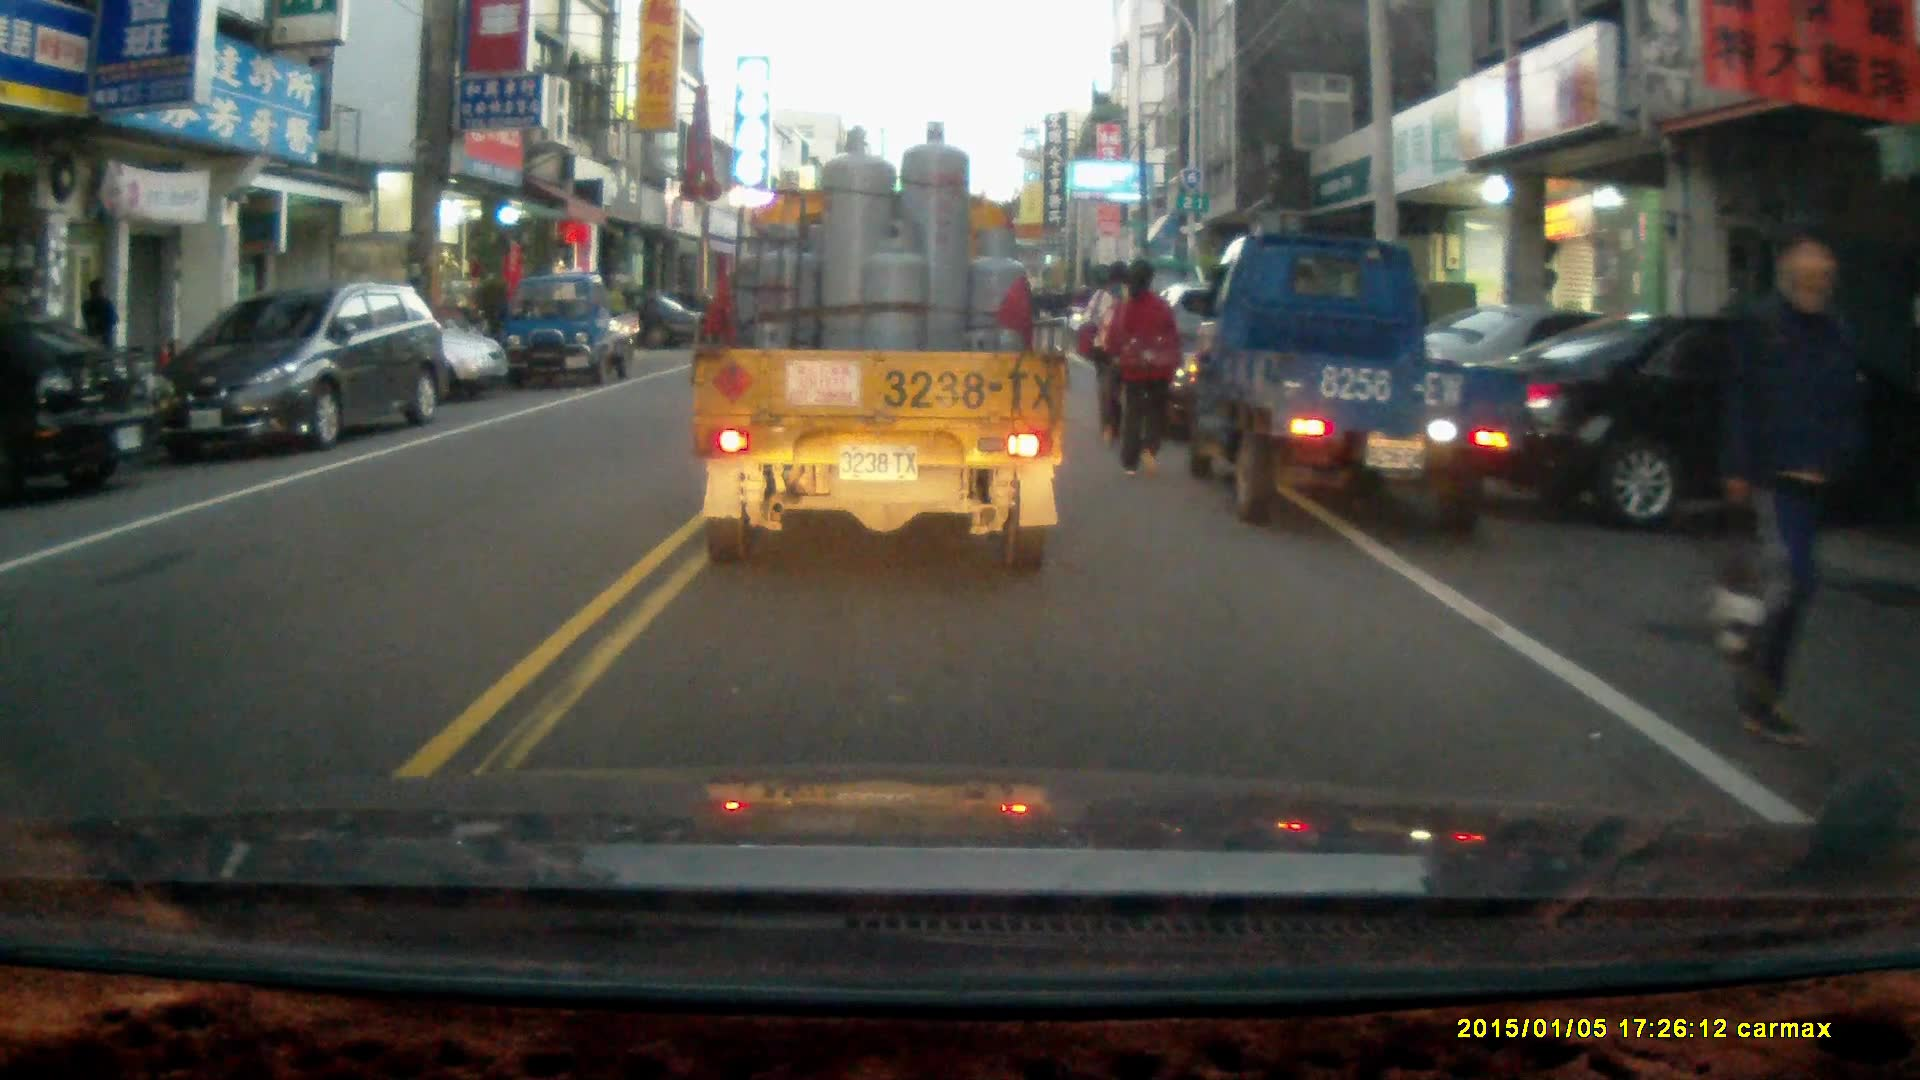pedestrian: (1720, 225, 1881, 752), (1102, 257, 1182, 476), (1081, 258, 1142, 439), (74, 274, 121, 387)
vehicle: (689, 121, 1070, 578), (1184, 232, 1530, 537), (147, 281, 451, 459), (1, 314, 166, 506), (245, 292, 509, 407), (499, 272, 637, 391)
